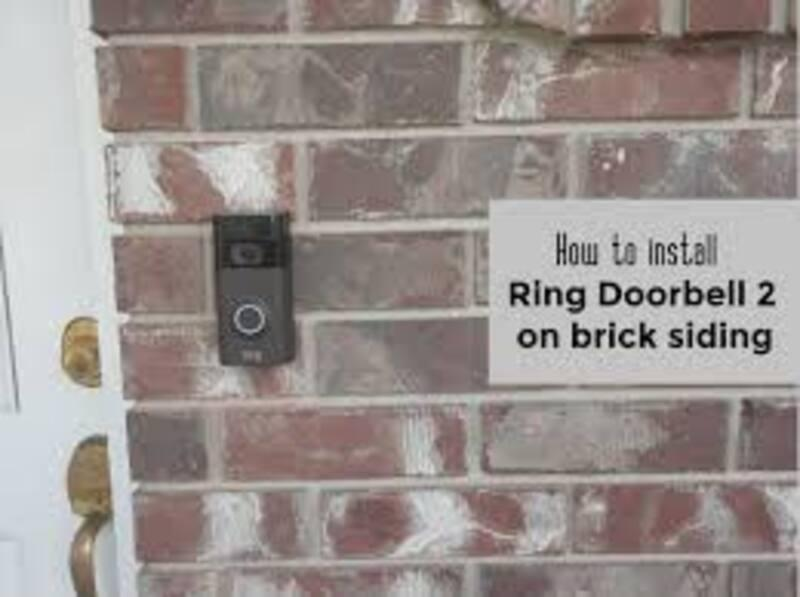doorbell: (206, 200, 301, 371)
